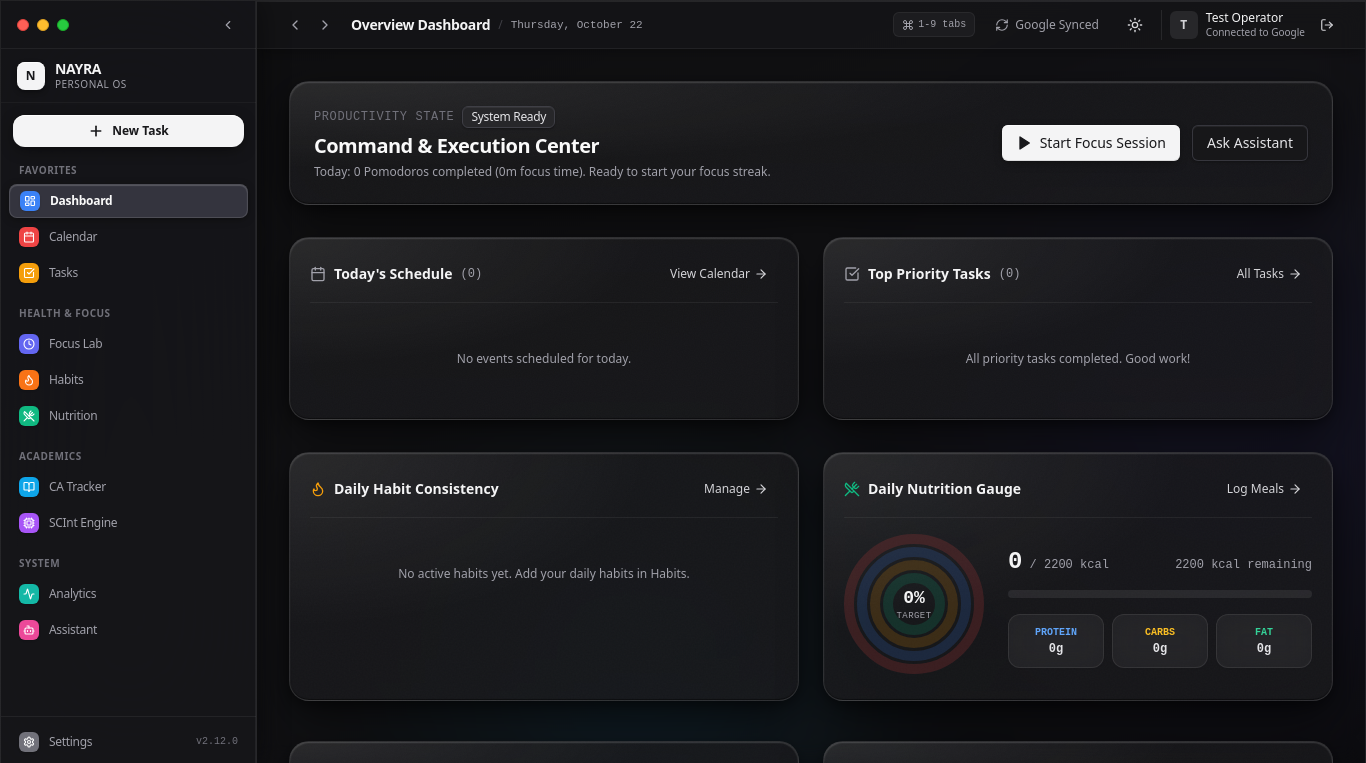
Test: NAYRA v2.4.0 — Apple SwiftUI Architecture Overhaul, Design System & Density Engine › navigates to Tasks view and verifies the scoped zoom-out container (tasks-zoomout-container) and wide layout (max-w-6xl)
Click the link "Tasks" at coordinates (48, 273), box [19,263,78,283]
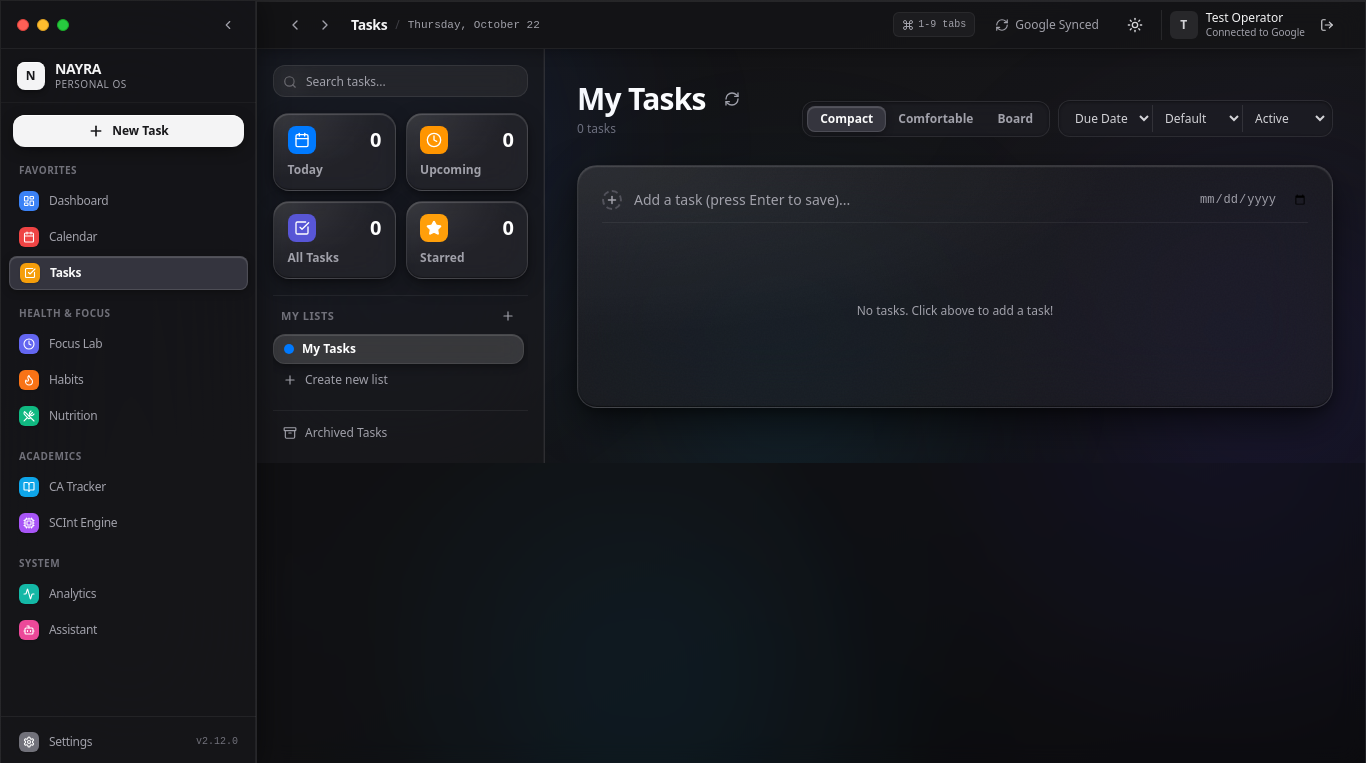
Now the field with placeholder "Add a task (press Enter to save)..." is shown, box [634,190,1187,210]
Now the element with class "tasks-zoomout-container" is shown, box [545,49,1365,463]
